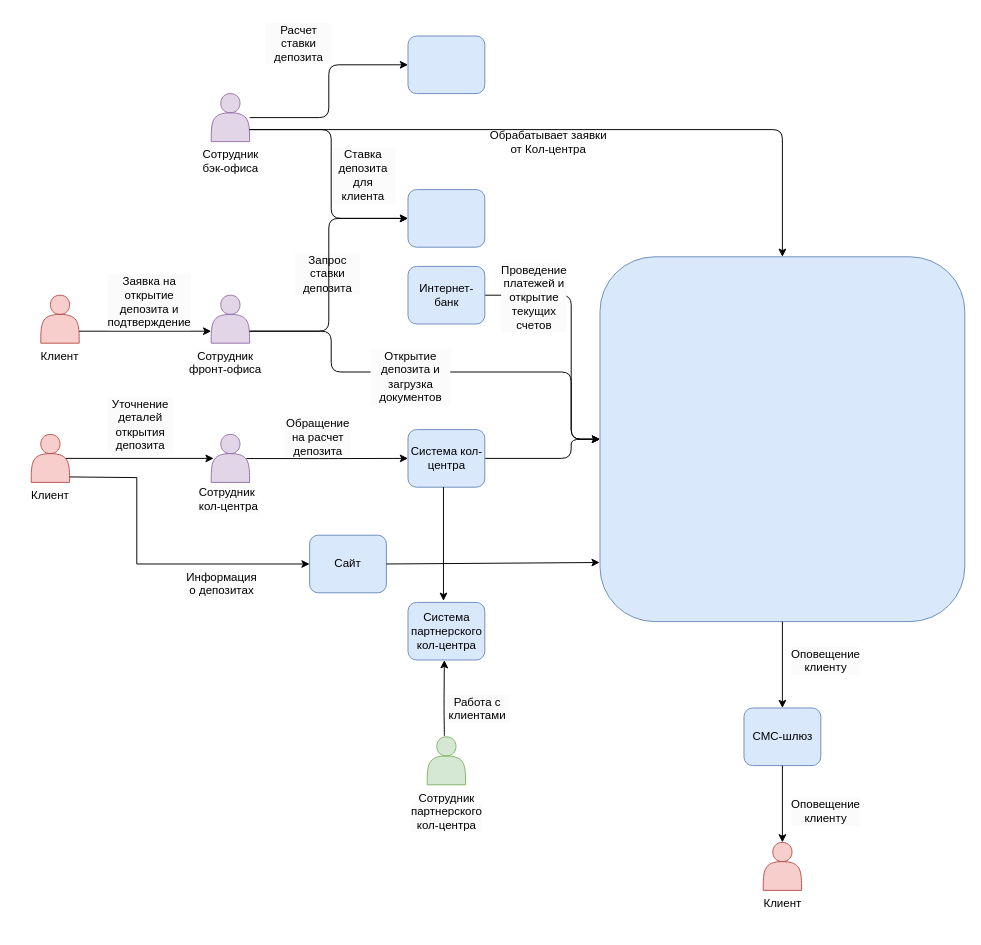
This 981x945 diagram has some shape labels left out. The shapes that lost their labels are listed below. From the top down, each one's box as (x1, y1, x2, y2) in pixels, then its label:
(407, 35, 485, 94): Excel
(407, 189, 485, 247): Электронная почта
(599, 256, 965, 622): АБС
